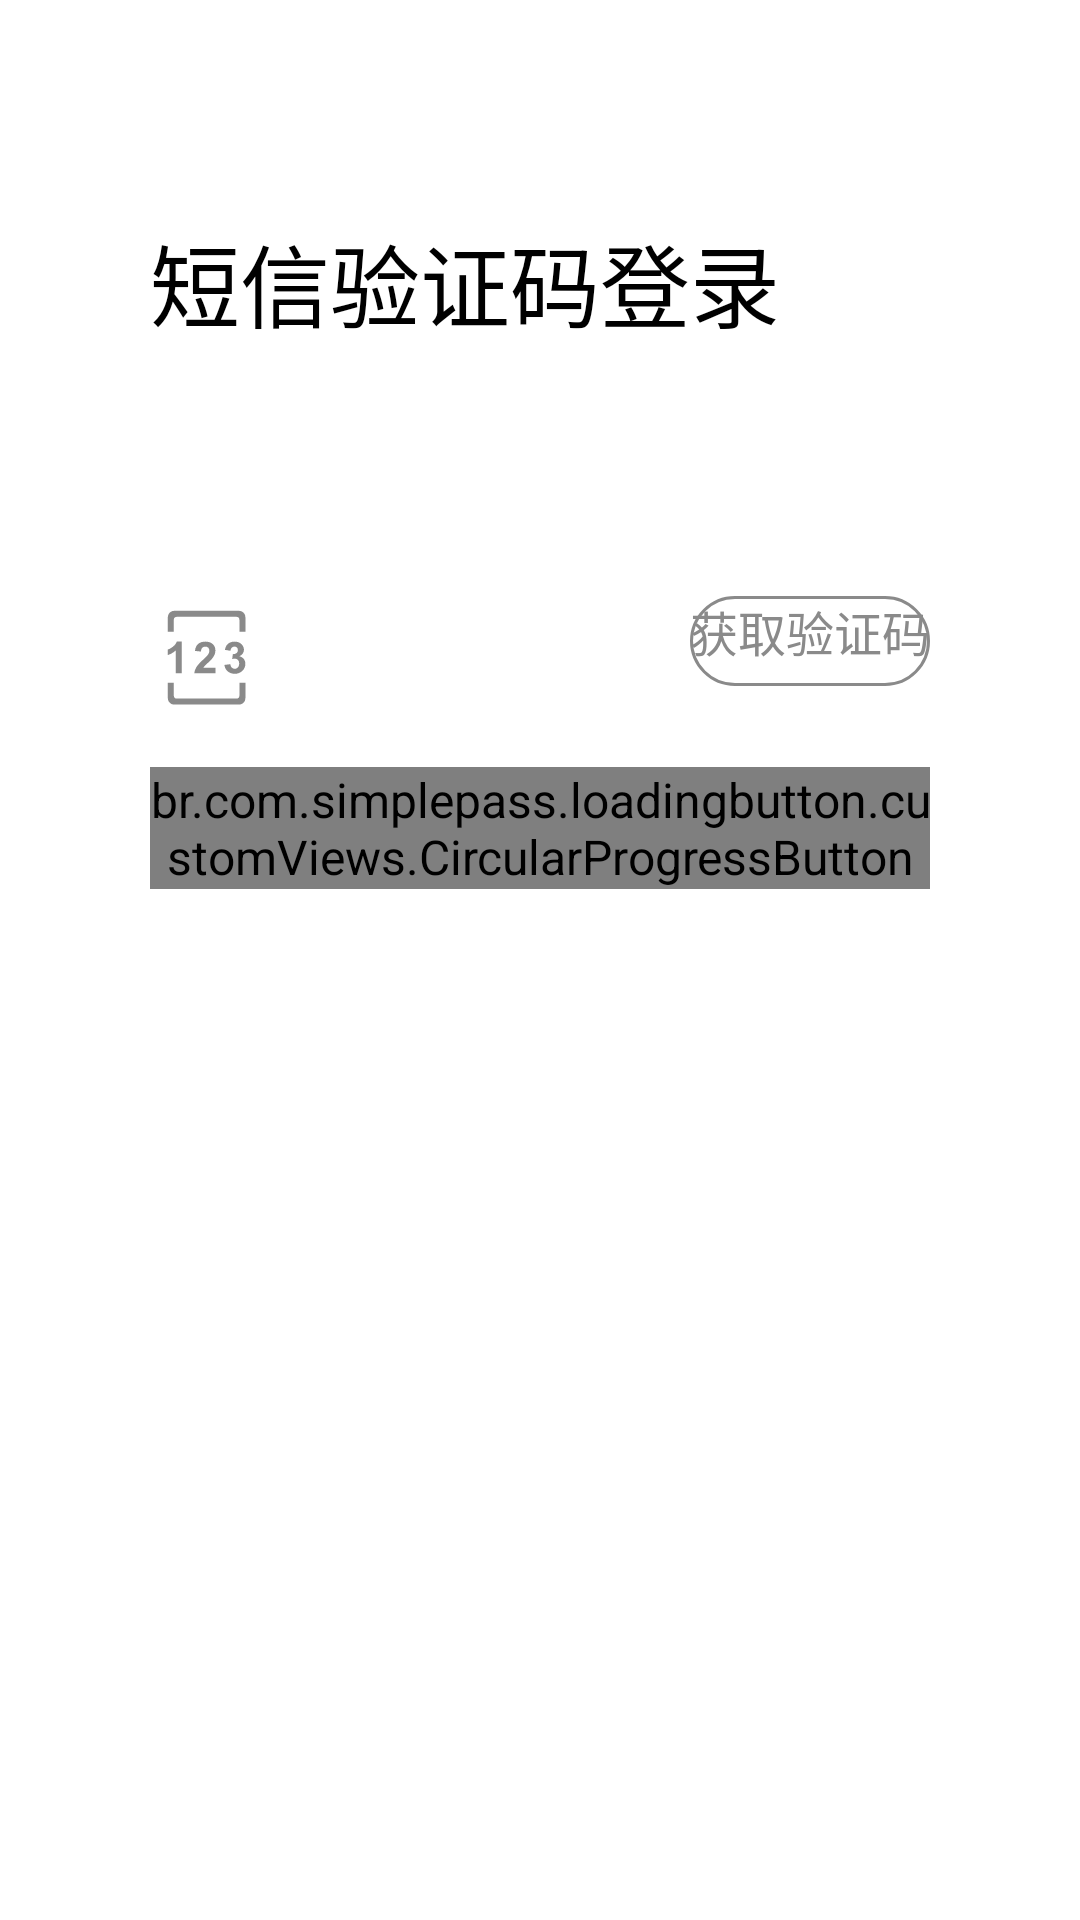

Icons on this 1080x1920 Android screen, each with its box as {"left": x1, "top": y1, "right": x2, "bottom": y2}:
verification code: {"left": 167, "top": 610, "right": 246, "bottom": 705}
